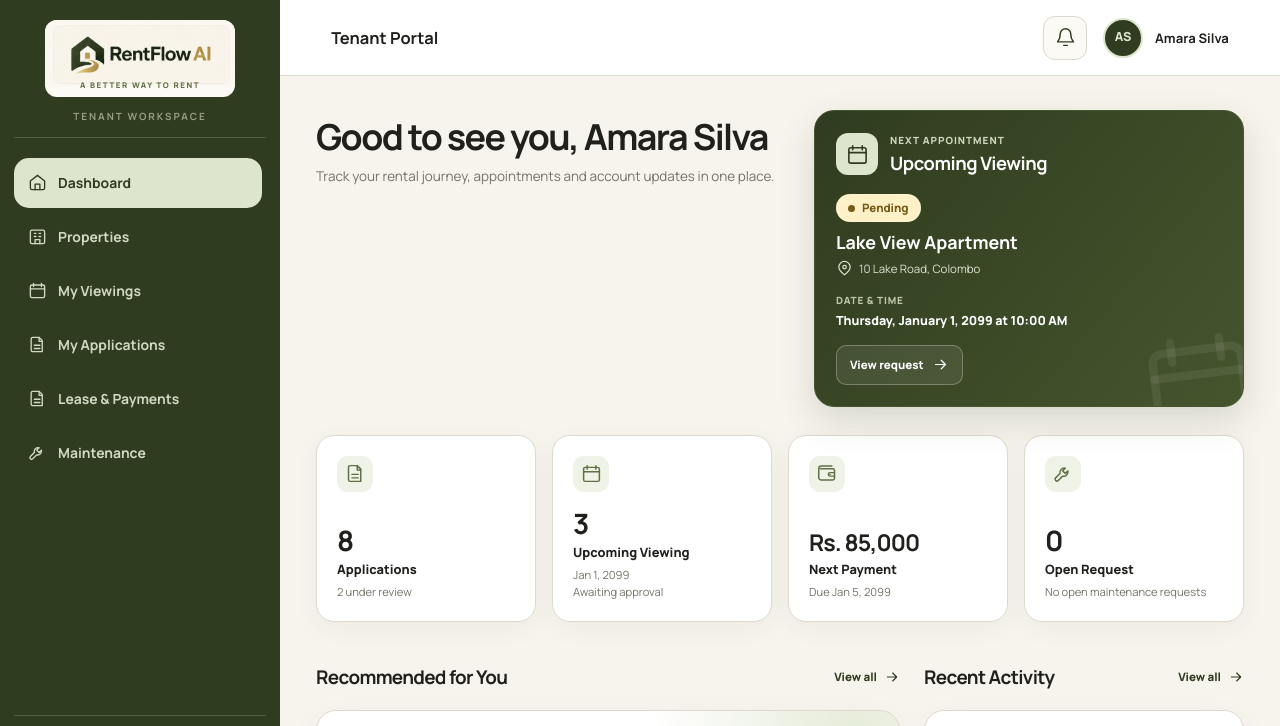
tenant dashboard › opens the tenant lease and payments workspace from the sidebar
Click the link "Lease & Payments" at (104, 399), box [28, 389, 179, 408]
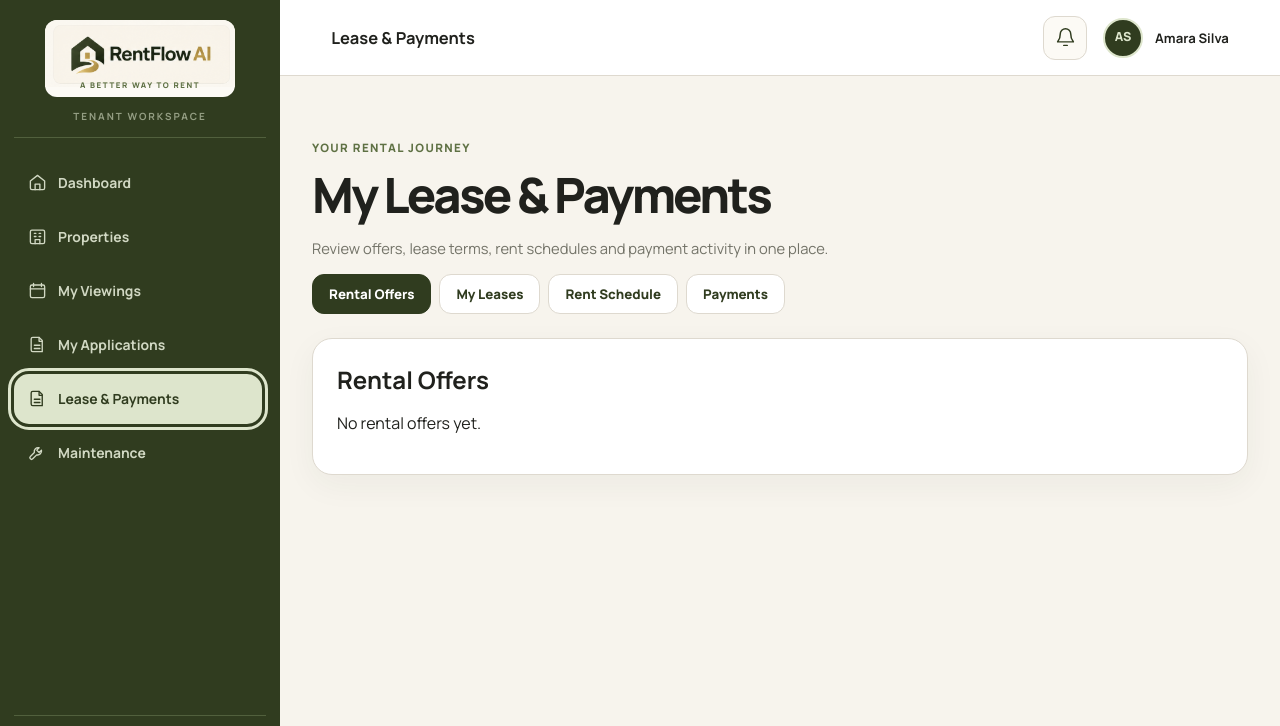
Expected: the heading "My Lease & Payments" is shown, [312, 161, 770, 228]
Expected: the navigation bar named "Lease and payment sections" is shown, [312, 274, 785, 314]
